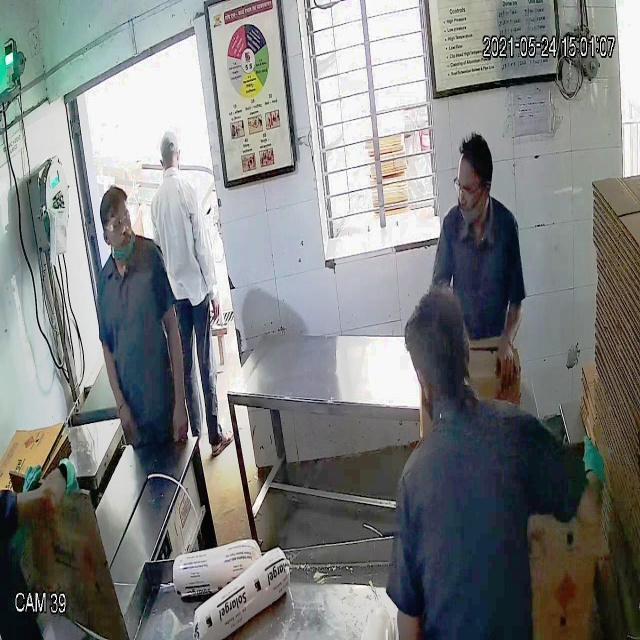Gafas: (448, 167, 490, 206), (98, 210, 132, 240)
